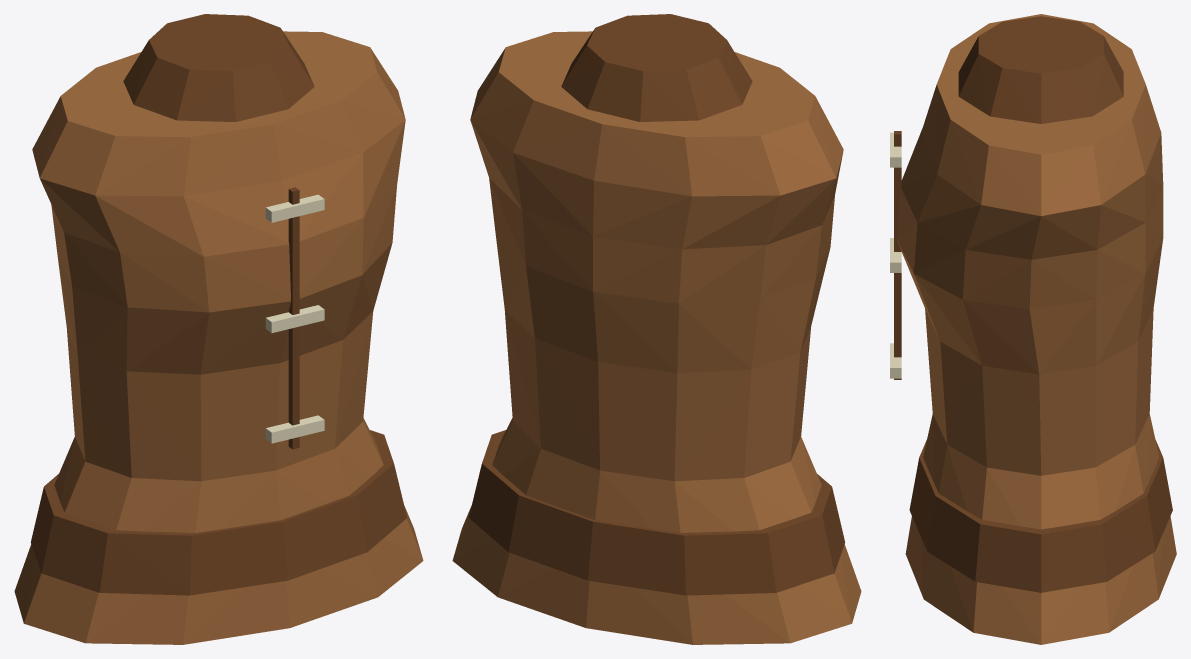
File: gear_leather_body_torso_f.glb
The picture shows the model from 3 angles, left to right: view 1: azimuth 30°, elevation 25°; view 2: azimuth 150°, elevation 25°; view 3: azimuth 270°, elevation 25°; orthographic projection. The views are drawn at different scales.
Parts seen in each view (by area): view 1: gear_leather_body_torso_f; view 2: gear_leather_body_torso_f; view 3: gear_leather_body_torso_f.
Boxes of the visible parts, x1=… form: gear_leather_body_torso_f: x1=14, y1=14, x2=423, y2=644; gear_leather_body_torso_f: x1=452, y1=14, x2=861, y2=644; gear_leather_body_torso_f: x1=890, y1=14, x2=1176, y2=644.
Size of the model in its own units: 0.444 by 0.58 by 0.296.
